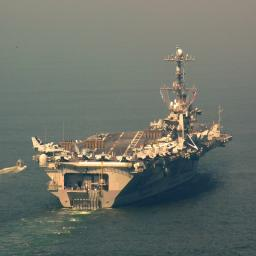Portanaves: (30, 45, 235, 213)
